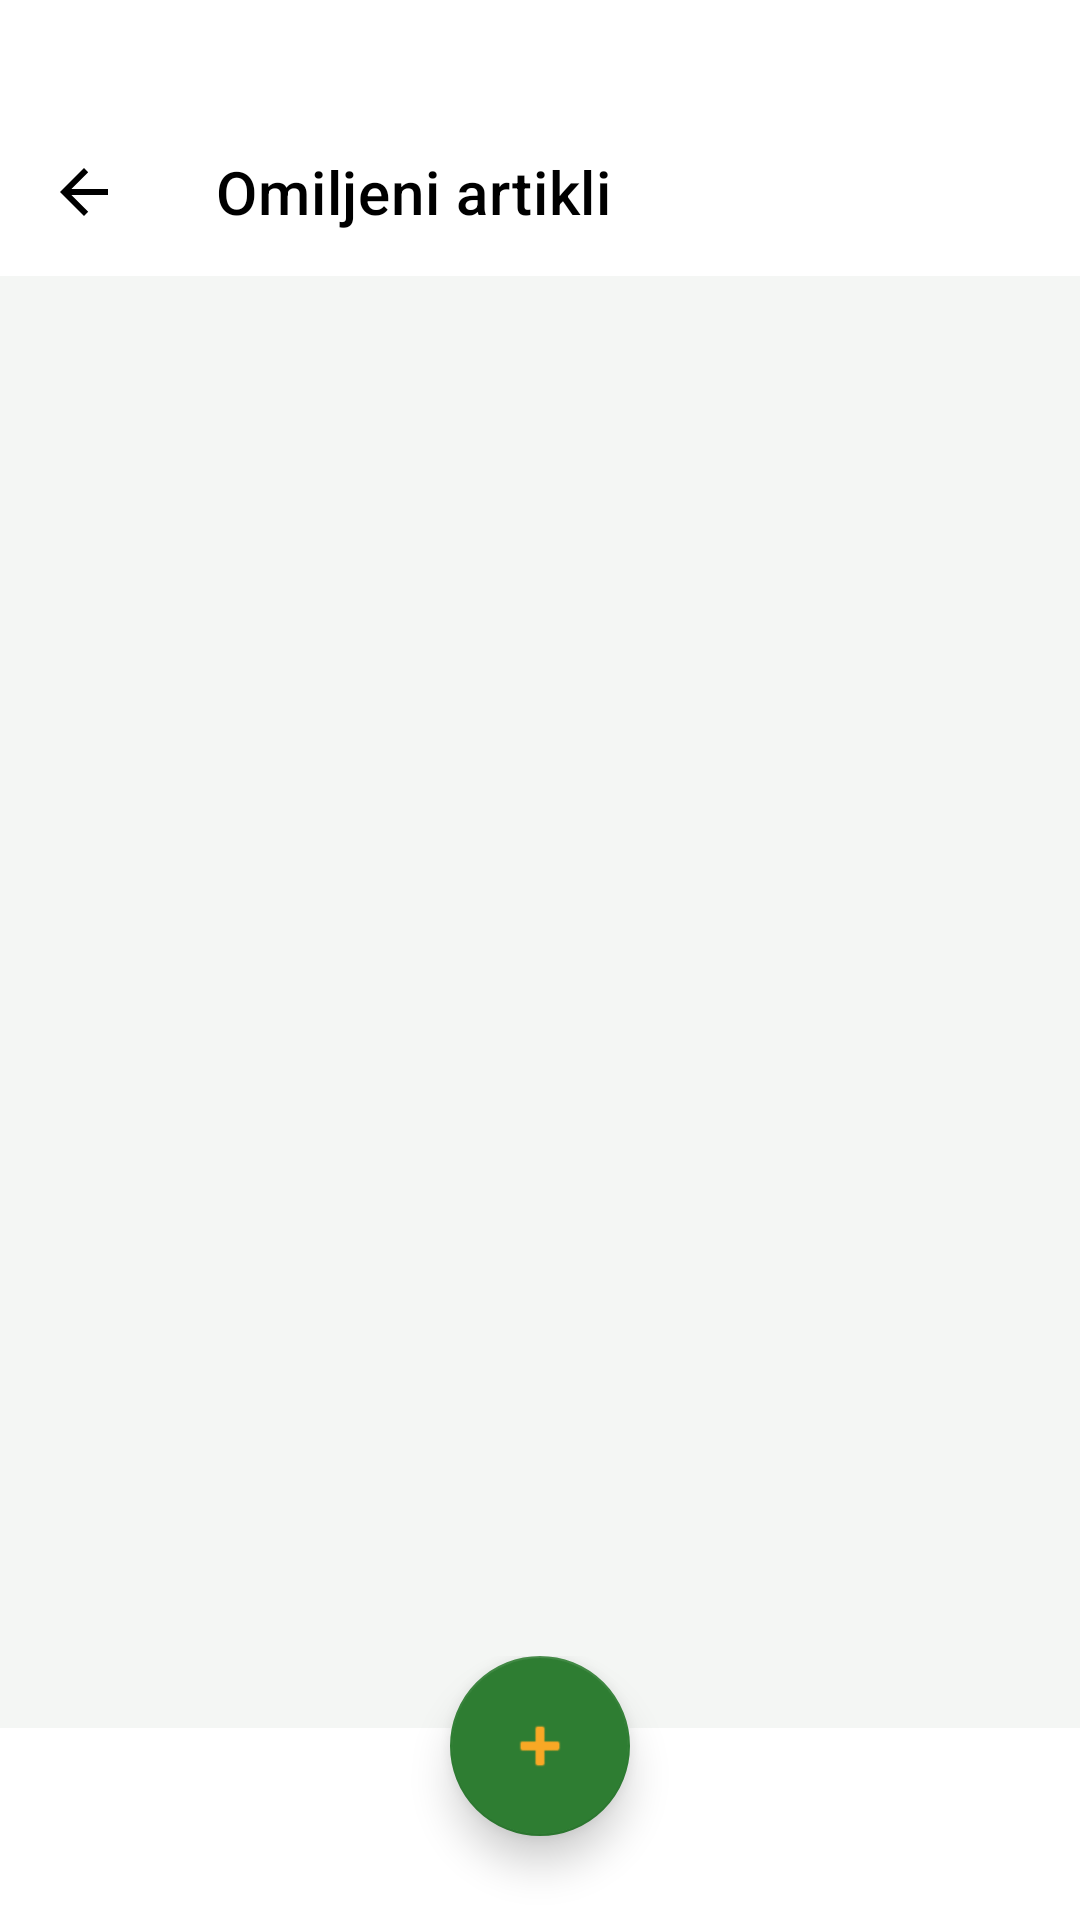

Where icons sit on this 1080x1920 app screen, as (x1, y1, x2, y2):
Dodaj oglas: (450, 1656, 630, 1836)
